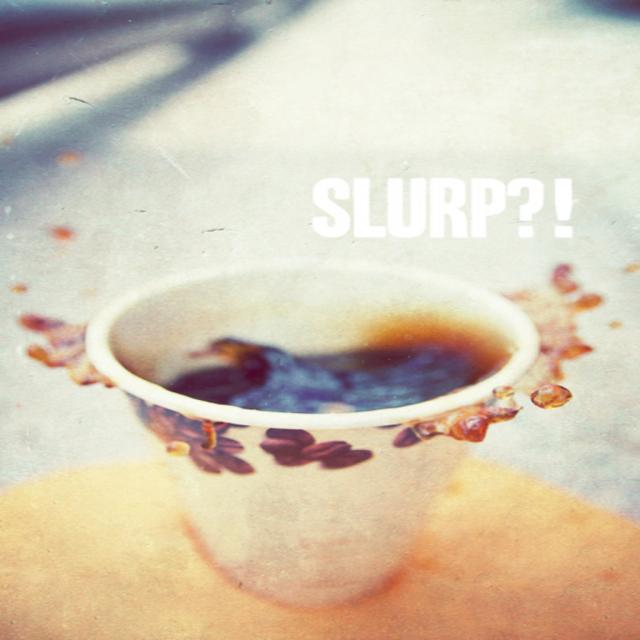Coffee: (168, 322, 489, 420)
Tea: (165, 319, 508, 411)
